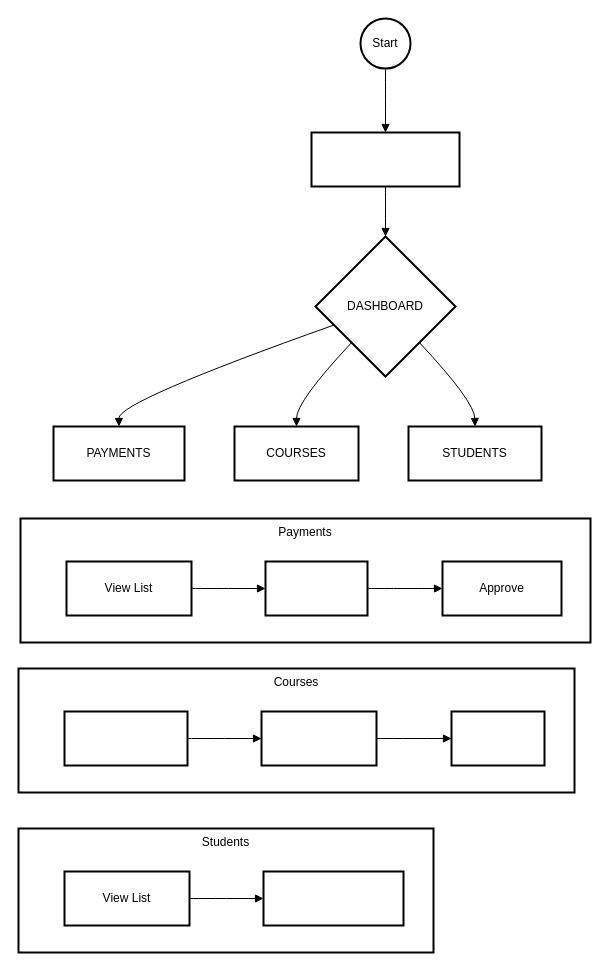
This 608x970 diagram has some shape labels left out. Each missing label, with the box of its shape:
Add New: (63, 710, 188, 766)
Admin Login: (310, 131, 460, 187)
Edit Profile: (262, 870, 404, 926)
Fill Info: (260, 710, 377, 766)
Save: (450, 710, 545, 766)
Verify: (264, 560, 368, 616)
